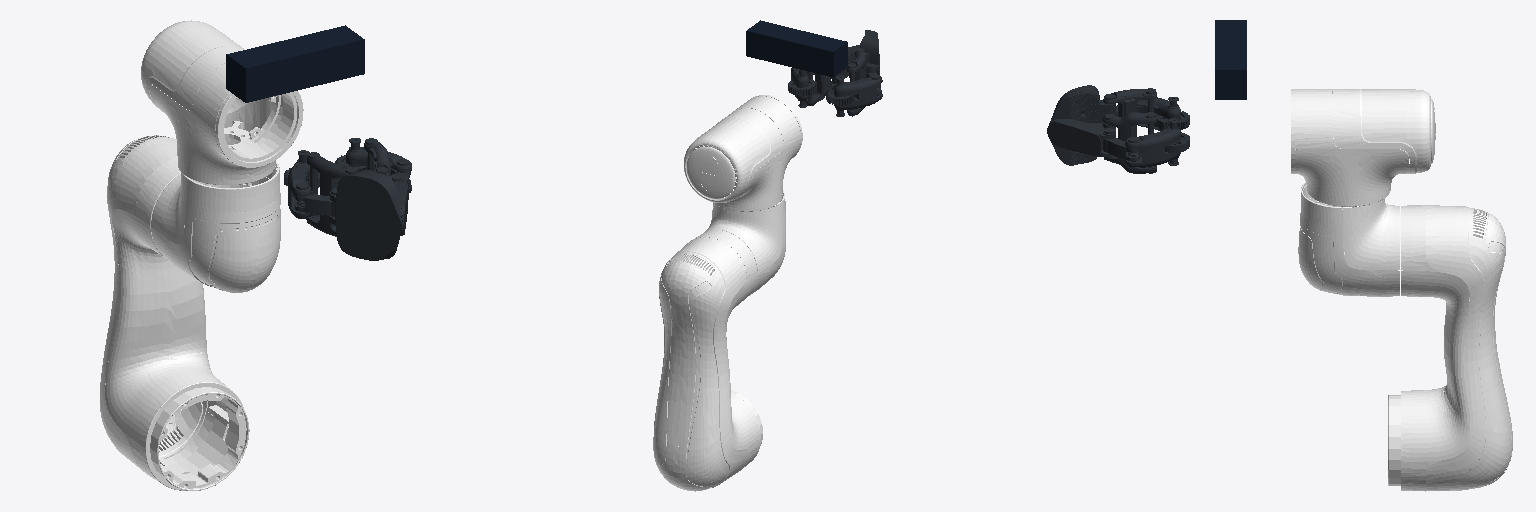
URDF robot description (me6_robot):
<?xml version='1.0' encoding='utf-8'?>
<robot name="me6_robot">
  <link name="dummy_link" />
  <link name="base_link">
    <inertial>
      <origin xyz="-0.0240568795993814 0.00375533156407527 0.0319345452713943" rpy="0 0 0" />
      <mass value="0.285212529609956" />
      <inertia ixx="0.000396422919712692" ixy="-2.45771742761344E-06" ixz="-4.3086536609151E-05" iyy="0.000694067773935387" iyz="-1.70368663919635E-06" izz="0.000881589559792122" />
    </inertial>
    <visual>
      <origin xyz="0 0 0" rpy="0 0 0" />
      <geometry>
        <mesh filename="e6-base_link.stl" />
      </geometry>
      <material name="">
        <color rgba="1 1 1 1" />
      </material>
    </visual>
    <collision name="e6-base_link-collision-0"><origin xyz="0 0 0" rpy="0 0 0" />
      <geometry><mesh filename="e6-base_link-collision-0.stl" /></geometry></collision><collision name="e6-base_link-collision-1"><origin xyz="0 0 0" rpy="0 0 0" />
      <geometry><mesh filename="e6-base_link-collision-1.stl" /></geometry></collision><collision name="e6-base_link-collision-5"><origin xyz="0 0 0" rpy="0 0 0" />
      <geometry><mesh filename="e6-base_link-collision-5.stl" /></geometry></collision></link>
  <joint name="dummy_joint" type="fixed">
    <parent link="dummy_link" />
    <child link="base_link" />
  </joint>
  <link name="Link1">
    <inertial>
      <origin xyz="-0.0083034891135278 0.000169963422442479 0.0273090165667047" rpy="0 0 0" />
      <mass value="0.0905534651015844" />
      <inertia ixx="0.000126000179432565" ixy="3.82915686953423E-07" ixz="2.6110576023655E-05" iyy="0.000106769415321957" iyz="-2.94192272889944E-07" izz="0.000110954758888466" />
    </inertial>
    <visual>
      <origin xyz="0 0 0" rpy="0 0 0" />
      <geometry>
        <mesh filename="e6-Link1.stl" />
      </geometry>
      <material name="">
        <color rgba="1 1 1 1" />
      </material>
    </visual>
    <collision>
      <origin xyz="0 0 0" rpy="0 0 0" />
      <geometry>
        <mesh filename="e6-Link1-collision.stl" />
      </geometry>
    </collision>
  </link>
  <joint name="joint1" type="revolute">
    <origin xyz="0 0 0.1252" rpy="0 0 0" />
    <parent link="base_link" />
    <child link="Link1" />
    <axis xyz="0 0 1" />
    <limit lower="-6.27" upper="6.27" effort="100" velocity="2.36" />
  </joint>
  <link name="Link2">
    <inertial>
      <origin xyz="-3.08219150776858E-06 0.0879305908719406 0.0388340121175632" rpy="0 0 0" />
      <mass value="0.262143169591665" />
      <inertia ixx="0.00151705147157064" ixy="-9.05783800425971E-08" ixz="-2.30358806459891E-08" iyy="0.000184651484640178" iyz="5.92489195475674E-06" izz="0.00160256161333827" />
    </inertial>
    <visual>
      <origin xyz="0 0 0" rpy="0 0 0" />
      <geometry>
        <mesh filename="e6-Link2.stl" />
      </geometry>
      <material name="">
        <color rgba="1 1 1 1" />
      </material>
    </visual>
    <collision name="e6-Link2-collision-0"><origin xyz="0 0 0" rpy="0 0 0" />
      <geometry><mesh filename="e6-Link2-collision-0.stl" /></geometry></collision><collision name="e6-Link2-collision-1"><origin xyz="0 0 0" rpy="0 0 0" />
      <geometry><mesh filename="e6-Link2-collision-1.stl" /></geometry></collision><collision name="e6-Link2-collision-2"><origin xyz="0 0 0" rpy="0 0 0" />
      <geometry><mesh filename="e6-Link2-collision-2.stl" /></geometry></collision><collision name="e6-Link2-collision-3"><origin xyz="0 0 0" rpy="0 0 0" />
      <geometry><mesh filename="e6-Link2-collision-3.stl" /></geometry></collision><collision name="e6-Link2-collision-4"><origin xyz="0 0 0" rpy="0 0 0" />
      <geometry><mesh filename="e6-Link2-collision-4.stl" /></geometry></collision><collision name="e6-Link2-collision-5"><origin xyz="0 0 0" rpy="0 0 0" />
      <geometry><mesh filename="e6-Link2-collision-5.stl" /></geometry></collision><collision name="e6-Link2-collision-6"><origin xyz="0 0 0" rpy="0 0 0" />
      <geometry><mesh filename="e6-Link2-collision-6.stl" /></geometry></collision><collision name="e6-Link2-collision-7"><origin xyz="0 0 0" rpy="0 0 0" />
      <geometry><mesh filename="e6-Link2-collision-7.stl" /></geometry></collision></link>
  <joint name="joint2" type="revolute">
    <origin xyz="-0.046 0 0.04" rpy="1.5708 0 -1.5708" />
    <parent link="Link1" />
    <child link="Link2" />
    <axis xyz="0 0 1" />
    <limit lower="-2.356" upper="2.356" effort="100" velocity="2.36" />
  </joint>
  <link name="Link3">
    <inertial>
      <origin xyz="0.000287552185448503 0.071655088852445 -0.0471165778156417" rpy="0 0 0" />
      <mass value="0.165777554463868" />
      <inertia ixx="0.000830428352662996" ixy="2.8181042521152E-06" ixz="-9.46588589577167E-07" iyy="0.000136357822793152" iyz="3.34896030109504E-05" izz="0.000875008990596281" />
    </inertial>
    <visual>
      <origin xyz="0 0 0" rpy="0 0 0" />
      <geometry>
        <mesh filename="e6-Link3.stl" />
      </geometry>
      <material name="">
        <color rgba="1 1 1 1" />
      </material>
    </visual>
    <collision>
      <origin xyz="0 0 0" rpy="0 0 0" />
      <geometry>
        <mesh filename="e6-Link3-collision.stl" />
      </geometry>
    </collision>
  </link>
  <joint name="joint3" type="revolute">
    <origin xyz="0 0.189 0.003" rpy="0 0 0" />
    <parent link="Link2" />
    <child link="Link3" />
    <axis xyz="0 0 1" />
    <limit lower="-2.6878" upper="2.6878" effort="100" velocity="2.36" />
  </joint>
  <link name="Link4">
    <inertial>
      <origin xyz="4.09285774923343E-06 0.00868445353374203 0.0236778972827499" rpy="0 0 0" />
      <mass value="0.0513325001478492" />
      <inertia ixx="4.01013411471145E-05" ixy="-1.20578032972286E-09" ixz="-4.45580261969494E-09" iyy="4.5290271173066E-05" iyz="-1.00105786014305E-05" izz="4.79740476320818E-05" />
    </inertial>
    <visual>
      <origin xyz="0 0 0" rpy="0 0 0" />
      <geometry>
        <mesh filename="e6-Link4.stl" />
      </geometry>
      <material name="">
        <color rgba="1 1 1 1" />
      </material>
    </visual>
    <collision>
      <origin xyz="0 0 0" rpy="0 0 0" />
      <geometry>
        <mesh filename="e6-Link4-collision.stl" />
      </geometry>
    </collision>
  </link>
  <joint name="joint4" type="revolute">
    <origin xyz="0 0.16 0.005" rpy="0 0 0" />
    <parent link="Link3" />
    <child link="Link4" />
    <axis xyz="0 0 1" />
    <limit lower="-2.7925" upper="2.7925" effort="100" velocity="2.36" />
  </joint>
  <link name="Link5">
    <inertial>
      <origin xyz="0.0105483555263245 3.64597044475367E-06 0.0262055886148362" rpy="0 0 0" />
      <mass value="0.0698692996111581" />
      <inertia ixx="5.60115215664426E-05" ixy="-7.74590413803E-09" ixz="8.25739718196742E-06" iyy="5.44754597177232E-05" iyz="2.95354323871408E-09" izz="6.26975970041226E-05" />
    </inertial>
    <visual>
      <origin xyz="0 0 0" rpy="0 0 0" />
      <geometry>
        <mesh filename="e6-Link5.stl" />
      </geometry>
      <material name="">
        <color rgba="1 1 1 1" />
      </material>
    </visual>
    <collision>
      <origin xyz="0 0 0" rpy="0 0 0" />
      <geometry>
        <mesh filename="e6-Link5-collision.stl" />
      </geometry>
    </collision>
  </link>
  <joint name="joint5" type="revolute">
    <origin xyz="0 0.067 0.0273" rpy="-1.5708 1.5708 0" />
    <parent link="Link4" />
    <child link="Link5" />
    <axis xyz="0 0 1" />
    <limit lower="-3.0194" upper="3.0194" effort="100" velocity="2.36" />
  </joint>
  <link name="Link6">
    <inertial>
      <origin xyz="-9.26807198336826E-06 0.00202791129000202 0.0111078385958137" rpy="0 0 0" />
      <mass value="0.0200378152167263" />
      <inertia ixx="7.30357563767904E-06" ixy="2.93853237811271E-09" ixz="2.10157561923958E-10" iyy="6.84457889267137E-06" iyz="-3.06988248779752E-08" izz="1.29091396053918E-05" />
    </inertial>
    <visual>
      <origin xyz="0 0 0" rpy="0 0 0" />
      <geometry>
        <mesh filename="e6-Link6.stl" />
      </geometry>
      <material name="">
        <color rgba="1 1 1 1" />
      </material>
    </visual>
    <collision>
      <origin xyz="0 0 0" rpy="0 0 0" />
      <geometry>
        <mesh filename="e6-Link6-collision.stl" />
      </geometry>
    </collision>
  </link>
  <joint name="joint6" type="revolute">
    <origin xyz="-0.047 0 0.034" rpy="1.5708 0 -1.5708" />
    <parent link="Link5" />
    <child link="Link6" />
    <axis xyz="0 0 1" />
    <limit lower="-6.27" upper="6.27" effort="100" velocity="2.36" />
  </joint>
  <link name="controller_base" />
  <joint name="controller_base_definition" type="fixed">
    <parent link="controller_base" />
    <child link="dummy_link" />
    <origin xyz="0 0 0" rpy="0 0 1.5707963267948966" />
  </joint>
  <link name="controller_flange" />
  <joint name="controller_flange_definition" type="fixed">
    <parent link="Link6" />
    <child link="controller_flange" />
    <origin xyz="0 0 0.0225" rpy="0 0 3.1415926535897931" />
  </joint>
<link name="r4_plate"><visual><geometry><mesh filename="r4-plate.stl" /></geometry><material name="r4_plate"><color rgba=".65 .67 .7 1" /></material></visual><collision name="r4_plate_0"><origin xyz="-1.52655665886e-16 -3.46944695195e-18 0.004" rpy="0 0 0" /><geometry><box size="0.0669885687288 0.067 0.01" /></geometry></collision><collision name="r4_plate_1"><origin xyz="0 0.05075 0.004" rpy="0 0 0" /><geometry><box size="0.086 0.0385 0.01" /></geometry></collision></link><joint name="r4_plate_mount" type="fixed"><parent link="controller_flange" /><child link="r4_plate" /><origin xyz="0 0 0" rpy="0 0 3.141592653589793" /></joint><link name="omnipicker"><collision name="gripper_body_0"><origin xyz="1.97365880013e-05 2.421438694e-08 0.0142500003269" rpy="0 0 0" /><geometry><box size="0.059157933712 0.0593141686618 0.0304999993462" /></geometry></collision><collision name="gripper_body_1"><origin xyz="-2.421438694e-08 2.23517417908e-08 0.0425000013709" rpy="0 0 0" /><geometry><box size="0.0585770251018 0.0813552398682 0.0300000027418" /></geometry></collision><collision name="gripper_body_2"><origin xyz="2.79396772385e-09 2.23517417908e-08 0.0700000063777" rpy="0 0 0" /><geometry><box size="0.0392000541538 0.0735038932518 0.0290000127554" /></geometry></collision><visual><geometry><mesh filename="gripper-base_link.stl" /></geometry></visual></link><joint name="omnipicker_mount" type="fixed"><parent link="controller_flange" /><child link="omnipicker" /><origin xyz="0 0 0.0080000000000000002" rpy="0 0 -1.5707963267948966" /></joint><link name="op_hand_narrow1_Link"><visual><geometry><mesh filename="op_hand_narrow1_Link.stl" /></geometry><material name="op_gray"><color rgba=".22 .24 .27 1" /></material></visual><collision name="finger_hand_narrow1_Link"><origin xyz="0.0116345191804 0.00866639915546 -1.10576472586e-05" rpy="1.57157657647 0.521309137102 2.21126656659" /><geometry><box size="0.0352522734321 0.0458954789477 0.0646182459832" /></geometry></collision></link><link name="op_hand_narrow2_Link"><visual><geometry><mesh filename="op_hand_narrow2_Link.stl" /></geometry><material name="op_gray"><color rgba=".22 .24 .27 1" /></material></visual><collision name="finger_hand_narrow2_Link"><origin xyz="0.00790377885549 -0.00707236950166 -0" rpy="0.601268971148 1.57079632679 0" /><geometry><box size="0.0209999999404 0.0227218262279 0.0466400776422" /></geometry></collision></link><link name="op_hand_narrow3_Link"><visual><geometry><mesh filename="op_hand_narrow3_Link.stl" /></geometry><material name="op_gray"><color rgba=".22 .24 .27 1" /></material></visual><collision name="finger_hand_narrow3_Link"><origin xyz="0.0218104637531 -0.00921978509688 0" rpy="1.57079632679 0 1.34807293493" /><geometry><box size="0.03188701407 0.0360000005364 0.0666165088597" /></geometry></collision></link><link name="op_hand_narrow4_Link" /><link name="op_hand_narrow_loop_Link"><visual><geometry><mesh filename="op_hand_narrow_loop_Link.stl" /></geometry><material name="op_gray"><color rgba=".22 .24 .27 1" /></material></visual><collision name="finger_hand_narrow_loop_Link"><origin xyz="0.0162562708243 -0.00328211270617 -0" rpy="3.14159265359 0 1.27071209851" /><geometry><box size="0.0233275260725 0.0530000012827 0.0609999990463" /></geometry></collision></link><link name="op_hand_wide1_Link"><visual><geometry><mesh filename="op_hand_wide1_Link.stl" /></geometry><material name="op_gray"><color rgba=".22 .24 .27 1" /></material></visual><collision name="finger_hand_wide1_Link"><origin xyz="0.0124985142257 -0.00764486002068 0.00103689943209" rpy="-1.65305313256 0.521655398629 0.979863056317" /><geometry><box size="0.0353052131342 0.0458208118018 0.0653518361197" /></geometry></collision></link><link name="op_hand_wide2_Link"><visual><geometry><mesh filename="op_hand_wide2_Link.stl" /></geometry><material name="op_gray"><color rgba=".22 .24 .27 1" /></material></visual><collision name="finger_hand_wide2_Link"><origin xyz="0.00790377885549 0.00707236950166 -0" rpy="-0.601268971148 1.57079632679 0" /><geometry><box size="0.0209999999404 0.0227218262279 0.0466400776422" /></geometry></collision></link><link name="op_hand_wide3_Link"><visual><geometry><mesh filename="op_hand_wide3_Link.stl" /></geometry><material name="op_gray"><color rgba=".22 .24 .27 1" /></material></visual><collision name="finger_hand_wide3_Link"><origin xyz="0.0218203197637 0.00924727689894 1.88872218132e-06" rpy="0 0 -1.34795334981" /><geometry><box size="0.0318353995733 0.0664925266398 0.070377702117" /></geometry></collision></link><link name="op_hand_wide4_Link" /><link name="op_hand_wide_loop_Link"><visual><geometry><mesh filename="op_hand_wide_loop_Link.stl" /></geometry><material name="op_gray"><color rgba=".22 .24 .27 1" /></material></visual><collision name="finger_hand_wide_loop_Link"><origin xyz="0.0162562644044 0.00328212407917 -0" rpy="3.14159265359 0 1.870878875" /><geometry><box size="0.0233275533769 0.0530000012138 0.0610000027716" /></geometry></collision></link><joint name="op_hand_narrow1_joint" type="revolute"><parent link="omnipicker" /><child link="op_hand_narrow1_Link" /><origin xyz="0.0 -0.0195 0.0565" rpy="0.14649265358066077 -1.570792653589793 2.981952653598926" /><axis xyz="0.0 0.0 -1.0" /><limit lower="-3.141592653589793" upper="3.141592653589793" effort="1" velocity="1" /></joint><joint name="op_hand_narrow2_joint" type="revolute"><parent link="op_hand_narrow1_Link" /><child link="op_hand_narrow2_Link" /><origin xyz="0.030852 0.018551 0.0" rpy="0.0 0.0 0.0" /><axis xyz="0.0 0.0 -1.0" /><limit lower="-3.141592653589793" upper="3.141592653589793" effort="1" velocity="1" /></joint><joint name="op_hand_narrow3_joint" type="revolute"><parent link="op_hand_narrow2_Link" /><child link="op_hand_narrow3_Link" /><origin xyz="0.018118 -0.01574 0.0" rpy="0.0 0.0 0.0" /><axis xyz="0.0 0.0 -1.0" /><limit lower="-3.141592653589793" upper="3.141592653589793" effort="1" velocity="1" /></joint><joint name="op_hand_narrow4_joint" type="fixed"><parent link="op_hand_narrow3_Link" /><child link="op_hand_narrow4_Link" /><origin xyz="0.0 -0.0104 0.0" rpy="0.0 0.0 0.0" /></joint><joint name="op_hand_narrow_loop_joint" type="revolute"><parent link="omnipicker" /><child link="op_hand_narrow_loop_Link" /><origin xyz="0.0 -0.021633 0.07387" rpy="0.14649265358066077 -1.570792653589793 2.981952653598926" /><axis xyz="0.0 0.0 -1.0" /><limit lower="-3.141592653589793" upper="3.141592653589793" effort="1" velocity="1" /></joint><joint name="op_hand_wide1_joint" type="revolute"><parent link="omnipicker" /><child link="op_hand_wide1_Link" /><origin xyz="0.0 0.0195 0.0565" rpy="0.14649265358066077 -1.570792653589793 2.981952653598926" /><axis xyz="0.0 0.0 -1.0" /><limit lower="-3.141592653589793" upper="3.141592653589793" effort="1" velocity="1" /></joint><joint name="op_hand_wide2_joint" type="revolute"><parent link="op_hand_wide1_Link" /><child link="op_hand_wide2_Link" /><origin xyz="0.030852 -0.018551 0.0" rpy="0.0 0.0 0.0" /><axis xyz="0.0 0.0 -1.0" /><limit lower="-3.141592653589793" upper="3.141592653589793" effort="1" velocity="1" /></joint><joint name="op_hand_wide3_joint" type="revolute"><parent link="op_hand_wide2_Link" /><child link="op_hand_wide3_Link" /><origin xyz="0.018118 0.01574 0.0" rpy="0.0 0.0 0.0" /><axis xyz="0.0 0.0 -1.0" /><limit lower="-3.141592653589793" upper="3.141592653589793" effort="1" velocity="1" /></joint><joint name="op_hand_wide4_joint" type="fixed"><parent link="op_hand_wide3_Link" /><child link="op_hand_wide4_Link" /><origin xyz="0.0 0.0104 0.0" rpy="0.0 0.0 0.0" /></joint><joint name="op_hand_wide_loop_joint" type="revolute"><parent link="omnipicker" /><child link="op_hand_wide_loop_Link" /><origin xyz="0.0 0.021633 0.07387" rpy="0.14649265358066077 -1.570792653589793 2.981952653598926" /><axis xyz="0.0 0.0 -1.0" /><limit lower="-3.141592653589793" upper="3.141592653589793" effort="1" velocity="1" /></joint><link name="op_unknown_sweep"><collision name="finger_fallback_hand_narrow1_Link"><origin xyz="-0.004797721252438768 -0.033643805503334484 0.061875565750045894" rpy="0.8238063035938836 0.49373784443767743 -0.21936648297914646" /><geometry><box size="0.06576679275184968 0.06701958967763637 0.08177433181181808" /></geometry></collision><collision name="finger_fallback_hand_narrow2_Link"><origin xyz="-0.00036539252012808917 -0.0472819534940458 0.08745800202317591" rpy="-2.6083700272114587 3.6338618683018353e-06 3.1284453071805602" /><geometry><box size="0.022999999940395373 0.04799725513126123 0.0800843701891288" /></geometry></collision><collision name="finger_fallback_hand_narrow3_Link"><origin xyz="-0.00019207342439343973 -0.034089933869419706 0.1234909281045942" rpy="1.2815030384185266 3.63386186852388e-06 3.1284453071805602" /><geometry><box size="0.03800000053644183 0.08041353151874757 0.10485251387326618" /></geometry></collision><collision name="finger_fallback_hand_narrow_loop_Link"><origin xyz="-1.7318637648697352e-05 -0.022944653192742793 0.09392546369544817" rpy="-1.570801340014647 -0.7599711642297435 1.5576524339956506" /><geometry><box size="0.061064609105288686 0.061157556863346375 0.06299999904633695" /></geometry></collision><collision name="finger_fallback_hand_wide1_Link"><origin xyz="0.006152549654473278 0.03279900536637648 0.06341547491595058" rpy="-2.40354935580839 0.4901489471701459 2.8217958630181403" /><geometry><box size="0.06639555179998145 0.06777737533841824 0.08322832576611537" /></geometry></collision><collision name="finger_fallback_hand_wide2_Link"><origin xyz="0.0003651679014252203 0.047281983523444635 0.08745796888103487" rpy="2.608371068886898 3.63386186852388e-06 3.128445307180561" /><geometry><box size="0.022999999940395373 0.04799723887988422 0.08008436974917682" /></geometry></collision><collision name="finger_fallback_hand_wide3_Link"><origin xyz="0.00019334268618335733 0.0340798437522356 0.12350305978107853" rpy="-1.281822664646886 3.6338618940590095e-06 3.128445307180561" /><geometry><box size="0.0723777021169685 0.08028180617630452 0.10477171411851026" /></geometry></collision><collision name="finger_fallback_hand_wide_loop_Link"><origin xyz="1.7173074302498653e-05 0.022944668921482725 0.093925458329211" rpy="1.5708013400253442 -0.7599733974099234 -1.583947126829436" /><geometry><box size="0.06106460771100325 0.06115758712024002 0.06300000277161809" /></geometry></collision></link><joint name="op_unknown_mount" type="fixed"><parent link="omnipicker" /><child link="op_unknown_sweep" /></joint><link name="gemini_e"><visual><geometry><box size=".08982 .0251 .0251" /></geometry><material name="camera"><color rgba=".12 .16 .22 1" /></material></visual><collision><geometry><box size=".08982 .0251 .0251" /></geometry></collision></link><joint name="gemini_e_mount" type="fixed"><parent link="controller_flange" /><child link="gemini_e" /><origin xyz="0 -.060 .02055" rpy="0 0 0" /></joint><link name="grasp_tcp" /><joint name="grasp_tcp_fixed" type="fixed"><parent link="controller_flange" /><child link="grasp_tcp" /><origin xyz="0.0 0.0 0.1514" rpy="0.0 0.0 0.0" /></joint></robot>

--- Facts derived from the render (not from the file) ---
The picture shows the robot from 3 angles, left to right: view 1: azimuth 30°, elevation 25°; view 2: azimuth 150°, elevation 25°; view 3: azimuth 270°, elevation 25°; orthographic projection.
Robot: me6_robot — 25 links, 24 joints (14 revolute, 10 fixed); root link controller_base; default pose: all joints at 0.
Visible links, largest first — view 1: Link3, Link5, Link4, gemini_e, op_hand_wide3_Link, op_hand_wide_loop_Link, op_hand_wide1_Link, op_hand_narrow1_Link, op_hand_narrow_loop_Link, op_hand_wide2_Link; view 2: Link3, Link5, gemini_e, Link4, op_hand_wide1_Link, op_hand_narrow1_Link, op_hand_wide3_Link, op_hand_wide_loop_Link; view 3: Link3, Link5, Link4, gemini_e, op_hand_wide3_Link, op_hand_narrow3_Link, op_hand_narrow1_Link, op_hand_narrow_loop_Link, op_hand_wide1_Link, op_hand_wide_loop_Link, op_hand_narrow2_Link.
Link boxes in pixels (bbox=[...]): Link3: bbox=[100, 135, 249, 490]; Link5: bbox=[141, 20, 303, 185]; Link4: bbox=[151, 162, 280, 292]; gemini_e: bbox=[226, 25, 364, 102]; op_hand_wide3_Link: bbox=[329, 170, 402, 260]; op_hand_wide_loop_Link: bbox=[306, 152, 357, 236]; op_hand_wide1_Link: bbox=[284, 150, 319, 218]; op_hand_narrow1_Link: bbox=[335, 138, 411, 192]; op_hand_narrow_loop_Link: bbox=[364, 138, 390, 175]; op_hand_wide2_Link: bbox=[295, 194, 335, 216]; Link3: bbox=[653, 230, 762, 491]; Link5: bbox=[684, 95, 802, 211]; gemini_e: bbox=[746, 20, 847, 77]; Link4: bbox=[695, 191, 785, 295]; op_hand_wide1_Link: bbox=[826, 75, 882, 116]; op_hand_narrow1_Link: bbox=[788, 68, 816, 107]; op_hand_wide3_Link: bbox=[860, 30, 879, 74]; op_hand_wide_loop_Link: bbox=[847, 48, 866, 116]; Link3: bbox=[1388, 205, 1512, 491]; Link5: bbox=[1291, 89, 1435, 206]; Link4: bbox=[1298, 182, 1399, 296]; gemini_e: bbox=[1215, 20, 1246, 99]; op_hand_wide3_Link: bbox=[1049, 85, 1115, 165]; op_hand_narrow3_Link: bbox=[1047, 119, 1115, 158]; op_hand_narrow1_Link: bbox=[1125, 118, 1189, 167]; op_hand_narrow_loop_Link: bbox=[1103, 112, 1156, 173]; op_hand_wide1_Link: bbox=[1137, 97, 1189, 130]; op_hand_wide_loop_Link: bbox=[1103, 88, 1156, 116]; op_hand_narrow2_Link: bbox=[1103, 138, 1141, 161].
Bounding box of the posed robot: 0.0898 × 0.3564 × 0.372 m (x, y, z).
11 mesh visuals loaded from 17 distinct referenced files (11 binary STL); not drawn: 6 (reference not matched to a file when rendering).
